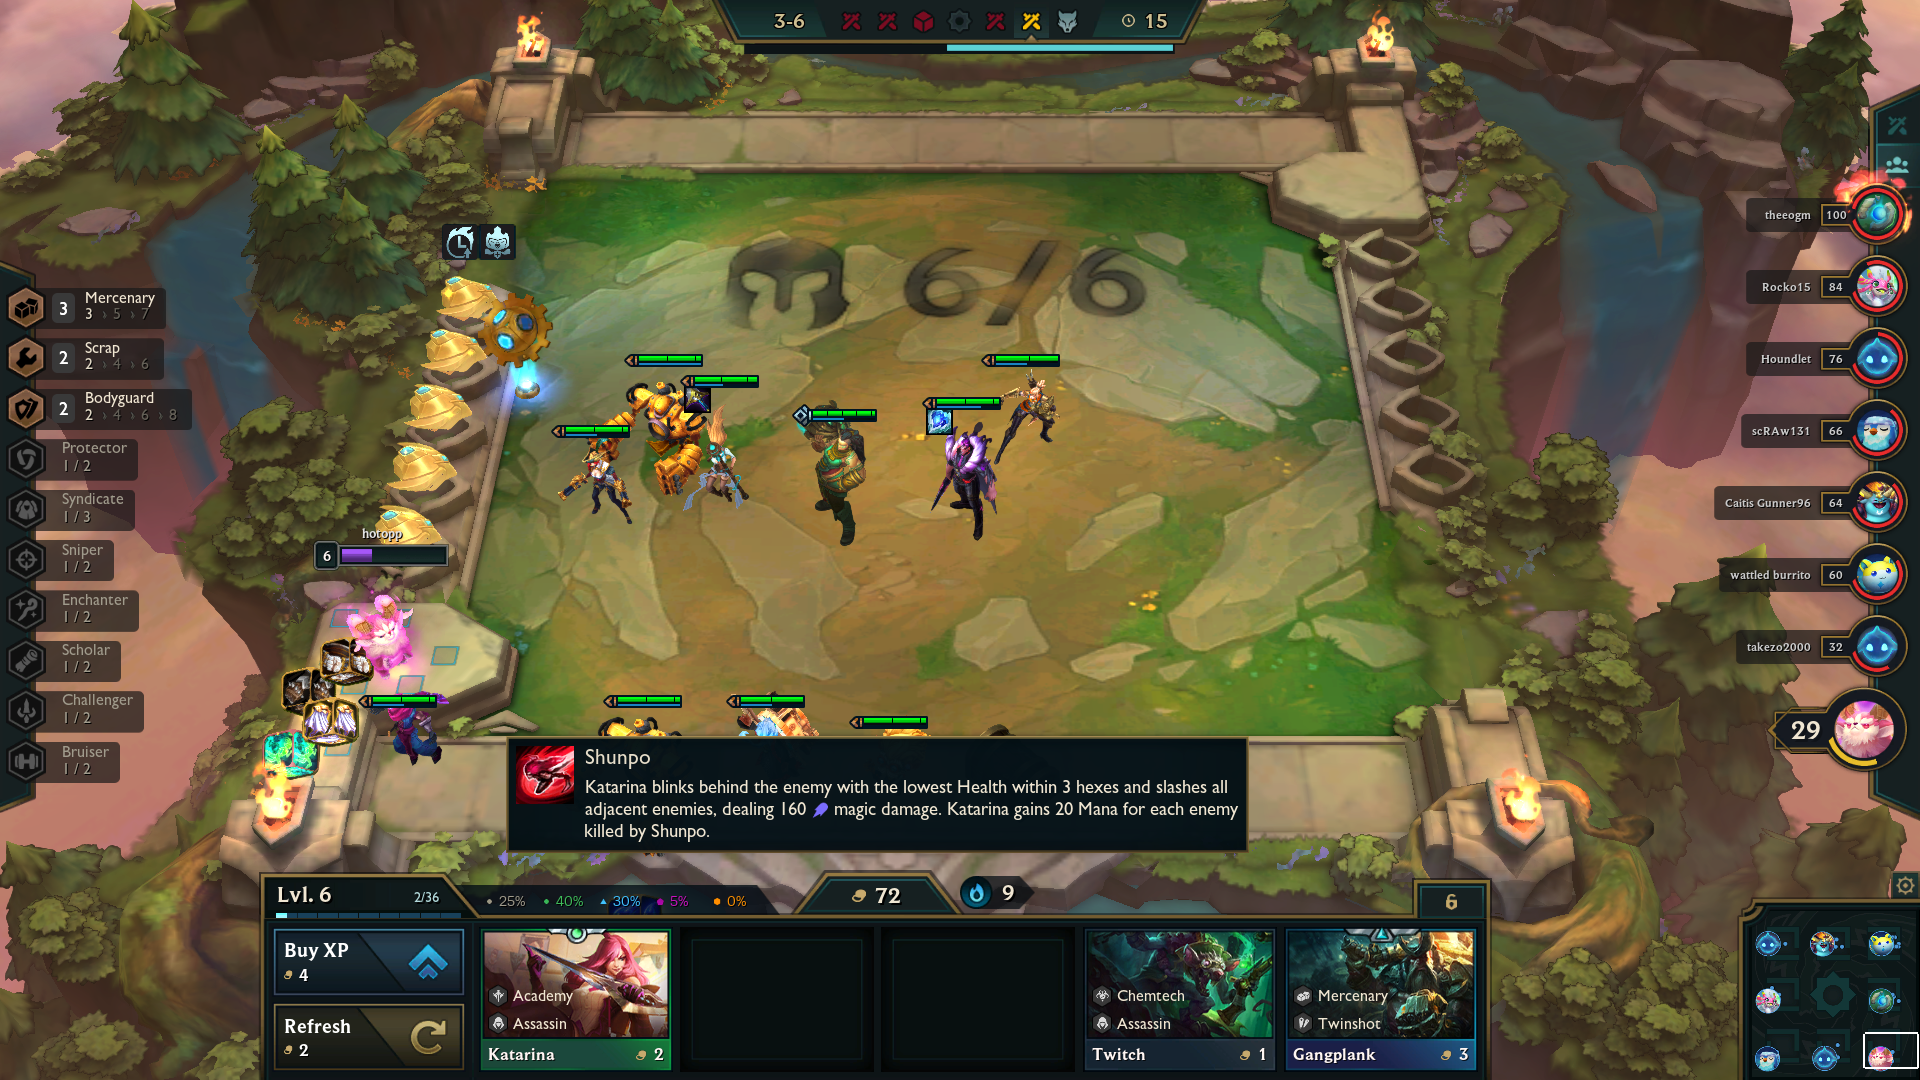blit: (611, 378, 698, 484)
dari: (927, 429, 1006, 545)
illa: (789, 405, 876, 547)
malz: (368, 686, 456, 773)
miss: (572, 447, 630, 526)
quin: (982, 368, 1080, 460)
